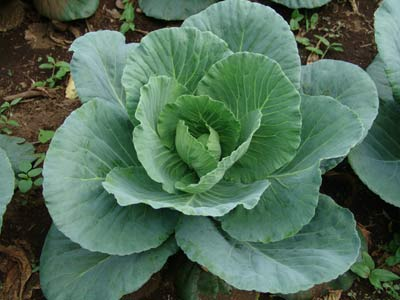cabbage: (180, 123, 224, 165)
